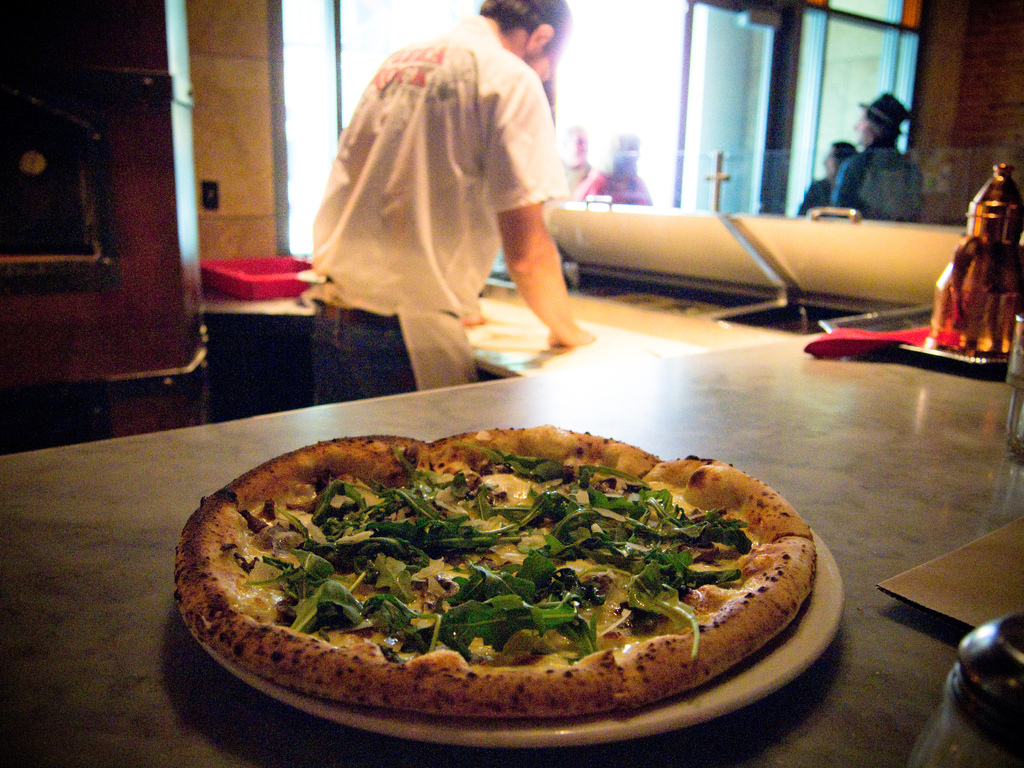Pizza: (175, 426, 817, 718)
